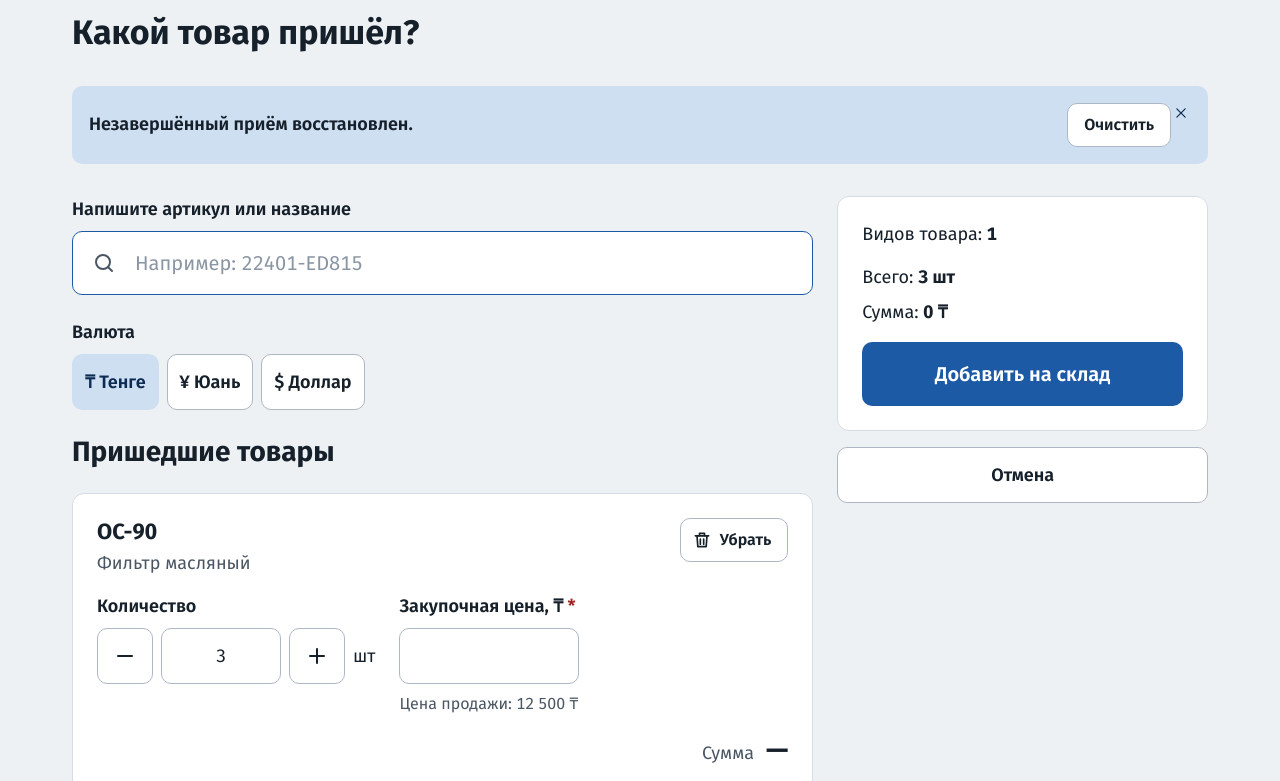
Test: ReceivePage, draft › hides the restored notice after changing a line and retains the draft
Expected: the text "Незавершённый приём восстановлен." is shown, [89,111,413,138]
Expected: the field named "Количество OC-90" is shown, [161,628,281,684]
Click the button named "Увеличить". click: coordinates (317, 656)
box: [289,628,345,684]
(page scrolled)
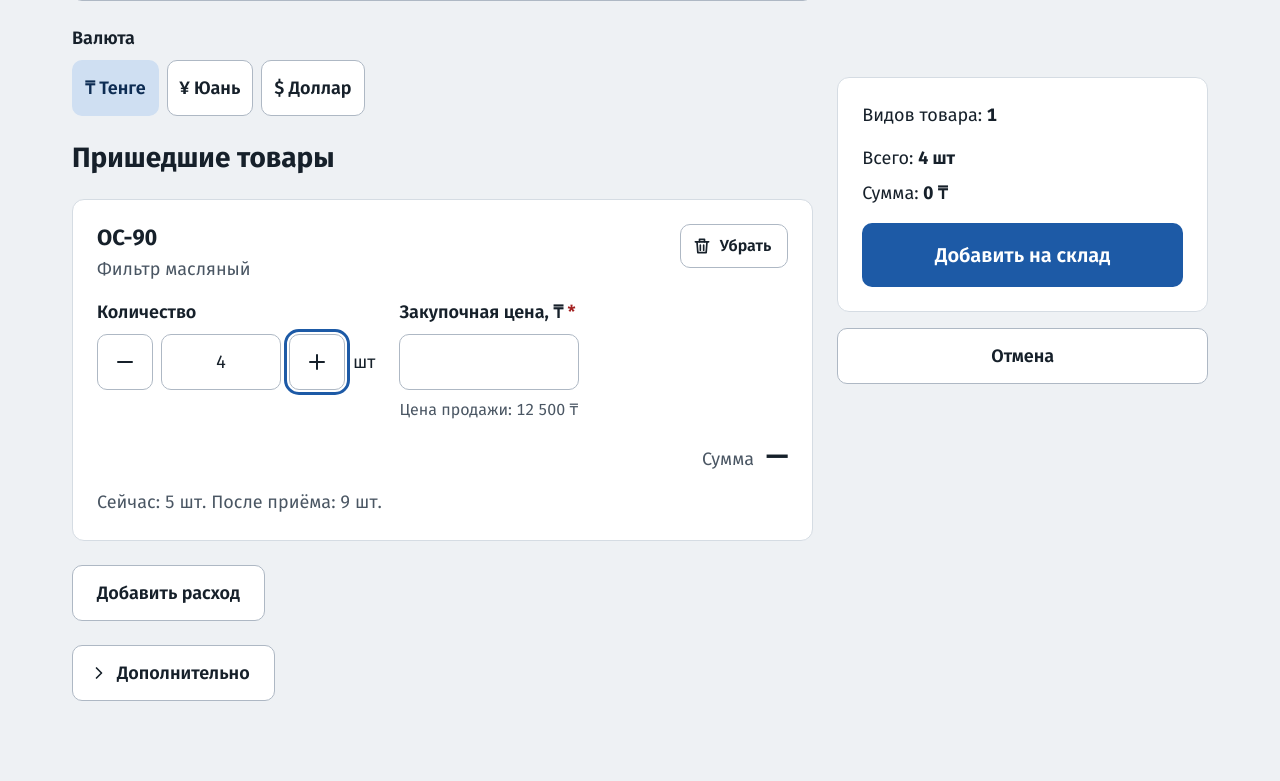
Expected: the text "Незавершённый приём восстановлен." is gone
